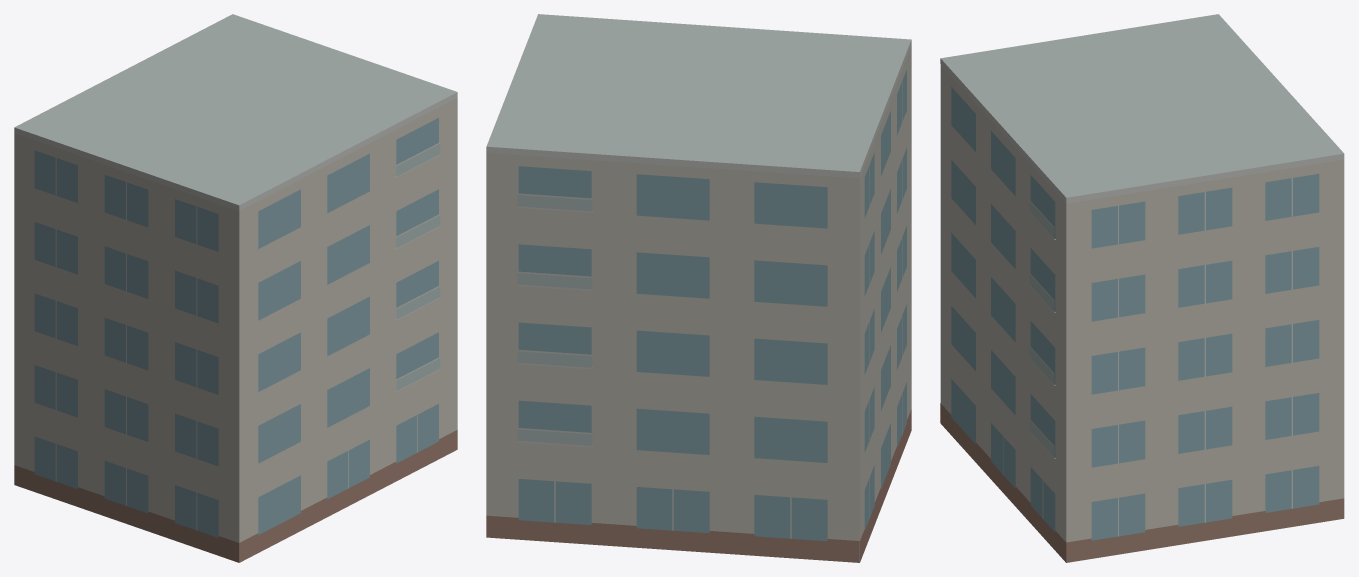
File: survey-upis-33046516.glb
3 views of the same model, side by side, from view 1: azimuth 30°, elevation 25°; view 2: azimuth 150°, elevation 25°; view 3: azimuth 270°, elevation 25° (orthographic). The views are drawn at different scales.
Parts seen in each view (by area): view 1: survey-upis-33046516.tmp; view 2: survey-upis-33046516.tmp; view 3: survey-upis-33046516.tmp.
Part boxes in pixels (bbox=[...]): survey-upis-33046516.tmp: bbox=[14, 14, 457, 562]; survey-upis-33046516.tmp: bbox=[486, 14, 911, 562]; survey-upis-33046516.tmp: bbox=[940, 14, 1344, 562].
Bounding box in the file's own units: 16.48 × 15.25 × 15.3.
